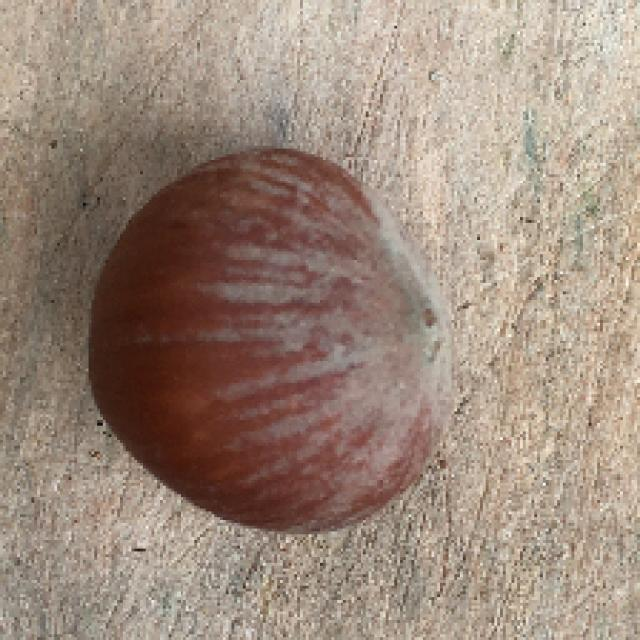qualityHazelnut: (74, 152, 460, 531)
